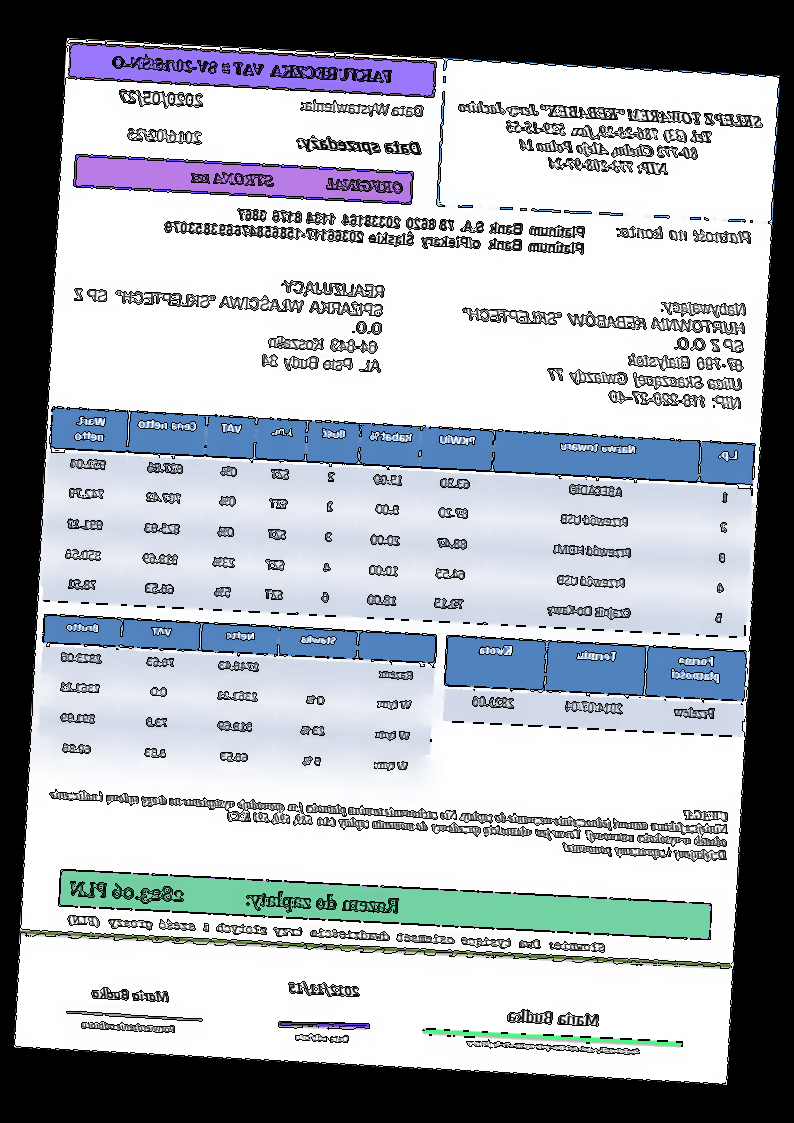Table: (41, 404, 757, 642), (35, 612, 440, 788), (440, 633, 748, 739)
TextBox: (47, 772, 731, 865), (455, 285, 749, 412), (68, 266, 388, 375), (454, 95, 766, 186), (160, 201, 587, 260), (66, 911, 611, 956), (67, 875, 405, 922), (105, 48, 394, 89), (188, 167, 406, 197), (463, 1036, 644, 1057), (616, 221, 754, 247), (298, 95, 428, 120), (294, 135, 424, 159), (115, 85, 206, 112), (503, 1006, 603, 1030), (79, 1017, 178, 1036), (88, 985, 173, 1005), (125, 125, 203, 145), (285, 979, 363, 999), (291, 1029, 353, 1046)
